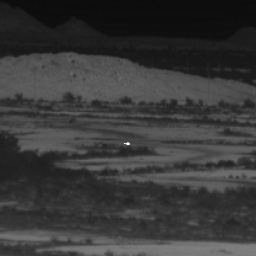Target: (123, 141, 131, 146)
